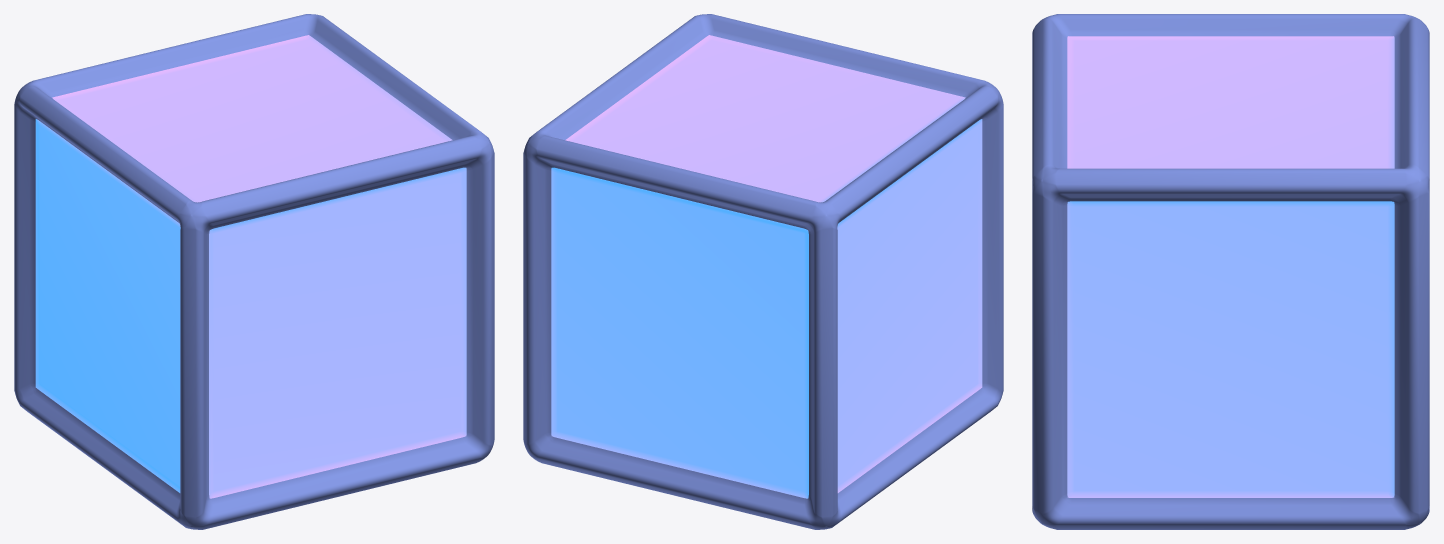
The picture shows the model from 3 angles, left to right: view 1: azimuth 30°, elevation 25°; view 2: azimuth 150°, elevation 25°; view 3: azimuth 270°, elevation 25°; orthographic projection. The views are drawn at different scales.
Visible parts, largest first — view 1: Cube; view 2: Cube; view 3: Cube.
Boxes of the visible parts, x1,y1,x2,y2 form: Cube: (14, 14, 494, 529); Cube: (523, 14, 1003, 529); Cube: (1032, 14, 1429, 529).
Size of the model in its own units: 197 by 197 by 197.
